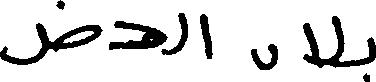X: (0, 0, 99, 69), (303, 11, 342, 72), (110, 16, 164, 59), (252, 39, 275, 74), (202, 9, 209, 63), (368, 32, 375, 81), (182, 8, 186, 52)
